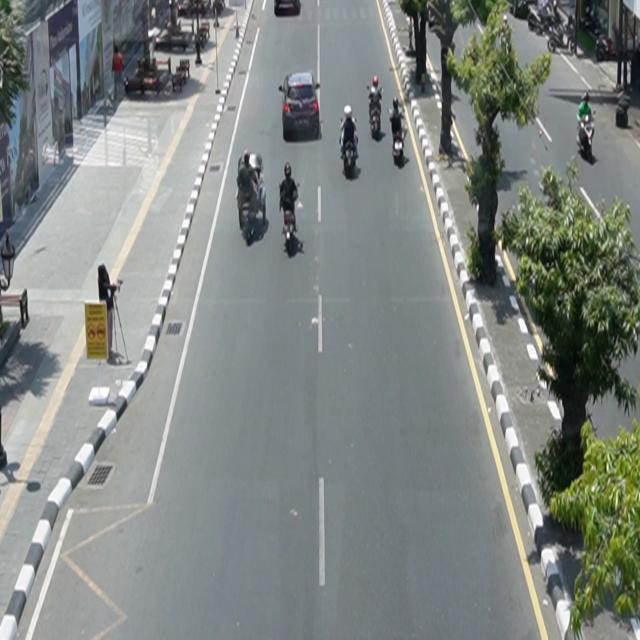car: (279, 72, 322, 140)
